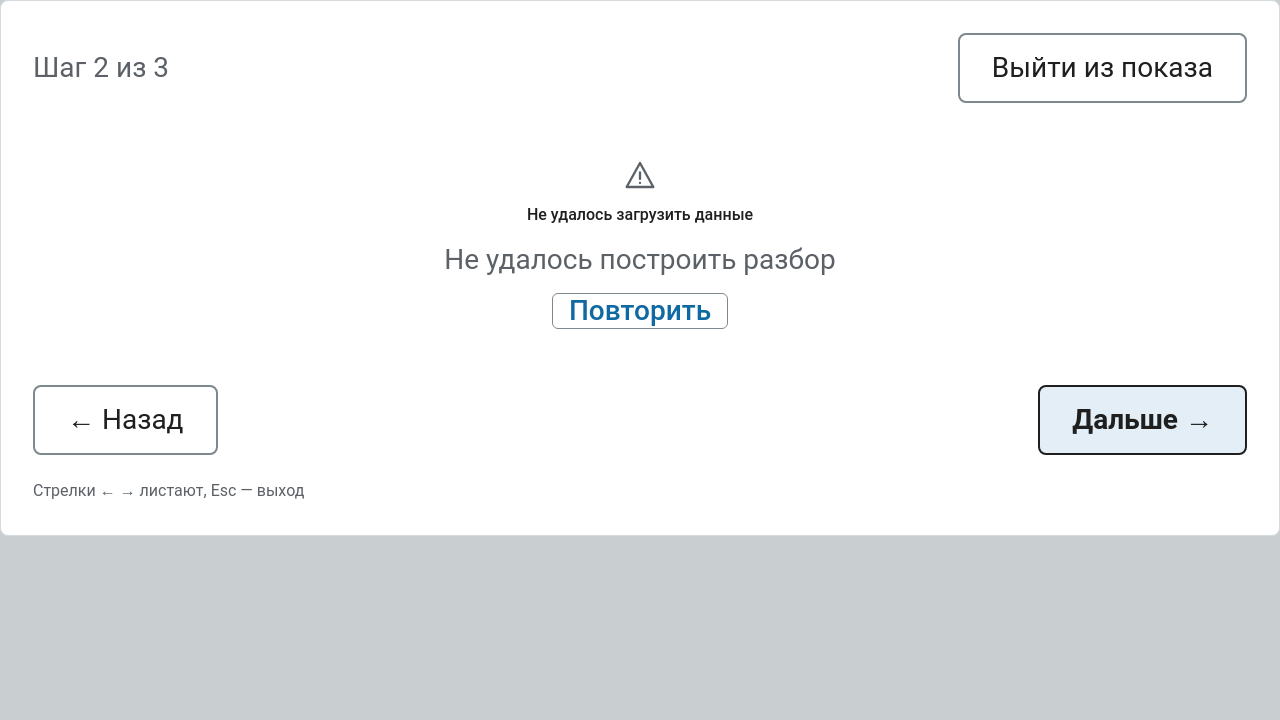
Test: страница «Показ карты ошибок» › состояния › ошибка разбора этапа — сообщение и повтор внутри шага, рамка показа остаётся
This screenshot has width=1280, height=720.
Expected: the text "Не удалось построить разбор" is shown, [444,239,836,281]
Expected: the text "Шаг 2 из 3" is shown, [33,47,169,89]
Click the button "Повторить" at (640, 311), box [552,293,728,329]
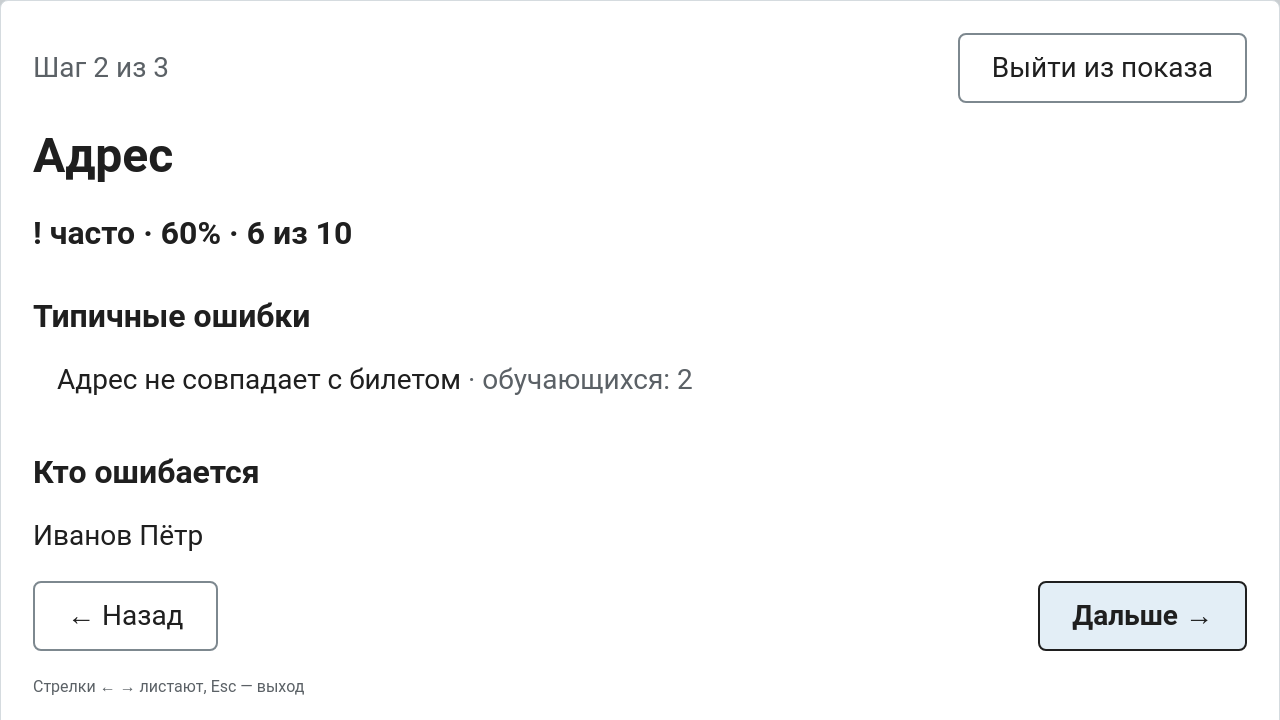
Result: the text "Адрес не совпадает с билетом" is shown at [57,363,461,396]
